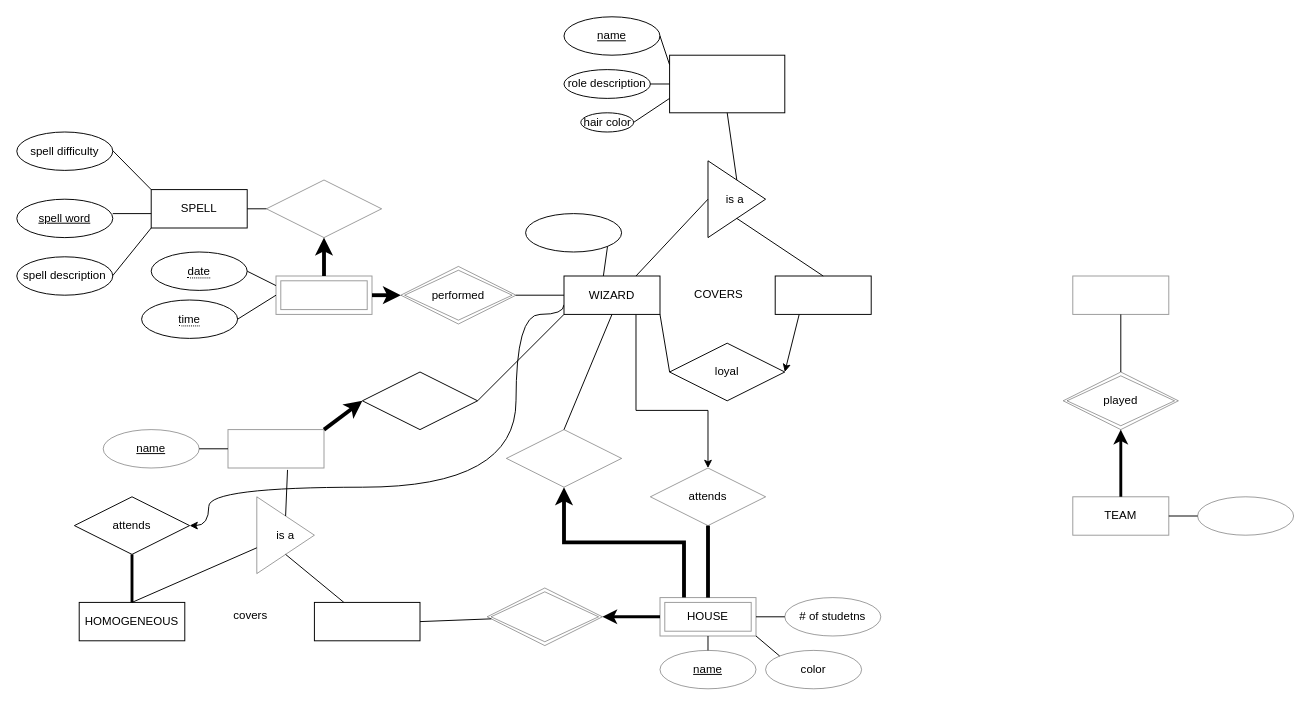
Image size: 1310x706. Some labels were removed from this diagram. Here are the shapes that lost their labels. From the top down, the centre of each, then its label:
the point at 727,83: CHARACTER
the point at 323,208: cast
the point at 573,232: serial wand #
the point at 323,294: MAGIC ACT
the point at 822,294: NOT WIZARD
the point at 1120,294: YEAR
the point at 419,400: manages
the point at 275,448: School
the point at 563,458: heads
the point at 1245,515: broom model
the point at 366,621: HETROGENEOUS
the point at 544,616: in
